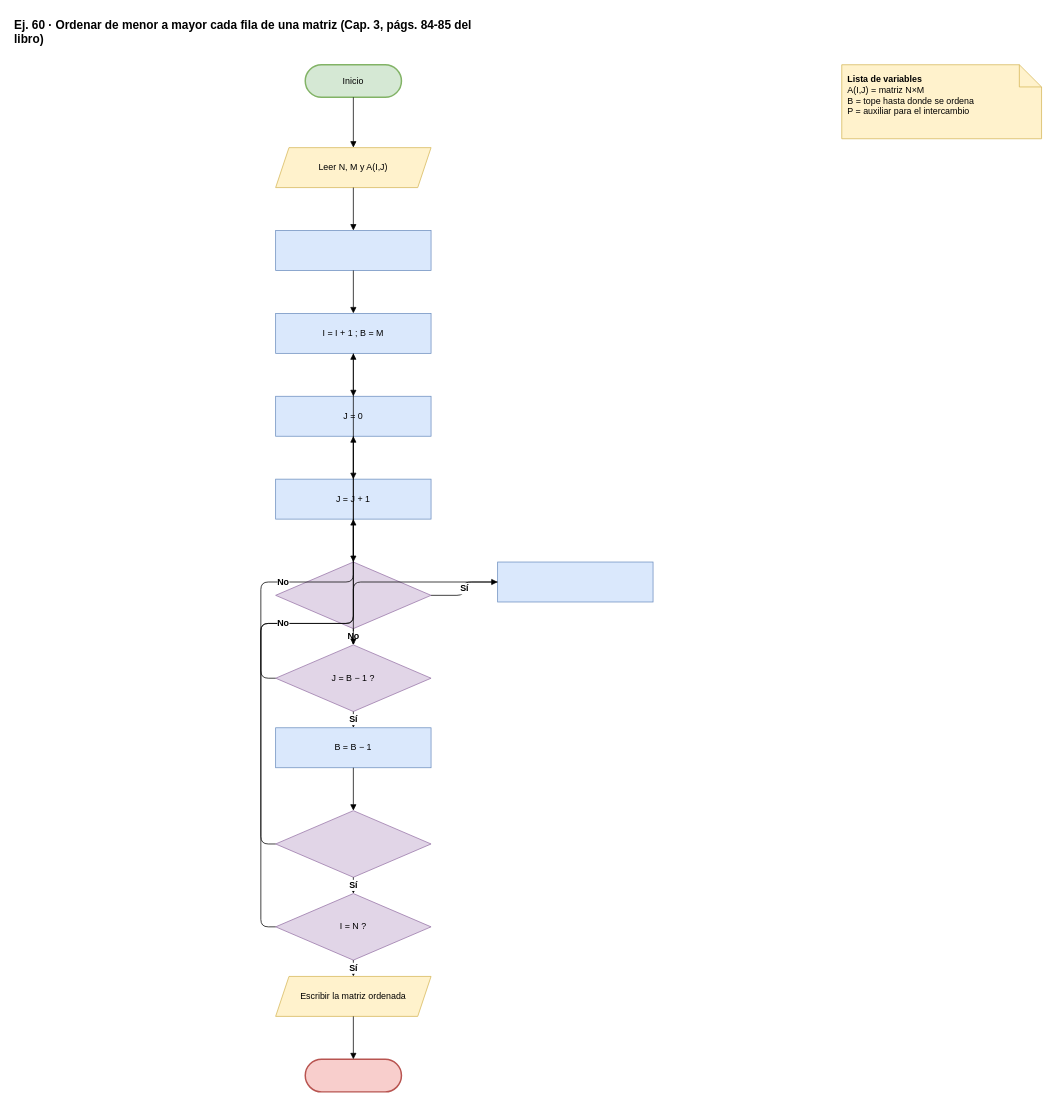
Some shapes in this 1055 by 1105 pixel diagram are drawn without their labels. The shapes that lost their labels are listed below. From the top down, each one's box as (x1, y1, x2, y2) in pixels, then its label:
(275, 230, 431, 270): I = 0
(275, 561, 431, 629): A(I,J) > A(I,J+1) ?
(497, 561, 653, 602): P = A(I,J) ; A(I,J) = A(I,J+1) ; A(I,J+1) = P
(275, 810, 431, 877): B = 1 ?
(304, 1058, 402, 1092): Fin
